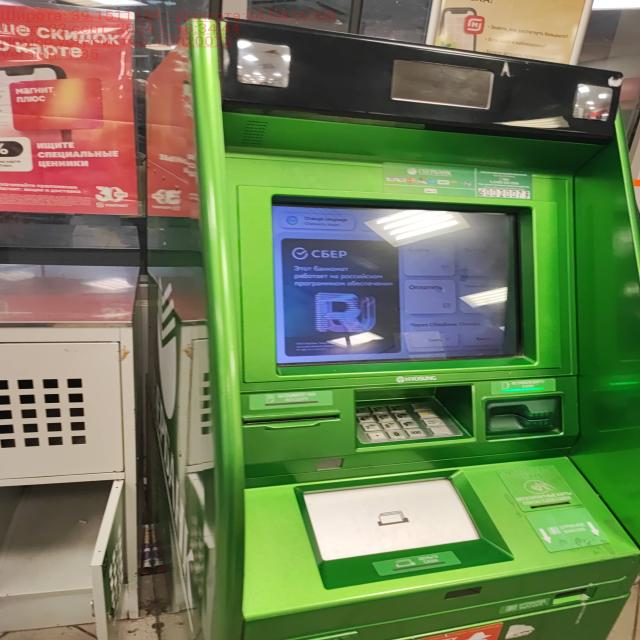bank: (147, 21, 640, 640)
